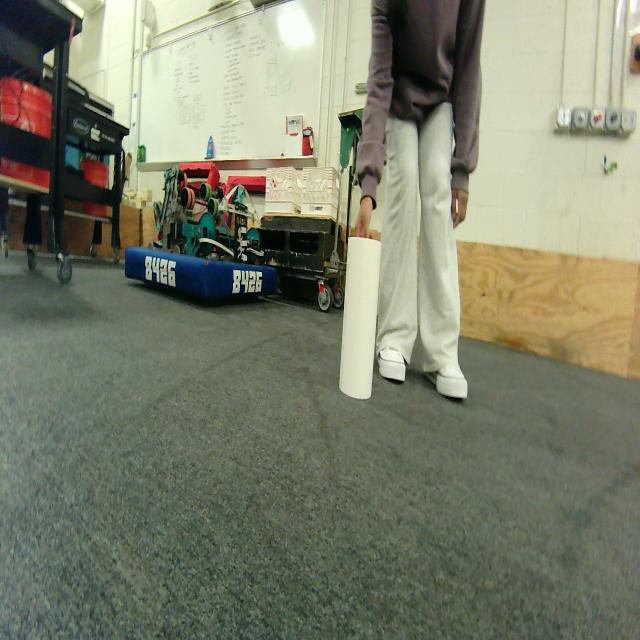coral: (339, 233, 384, 399)
